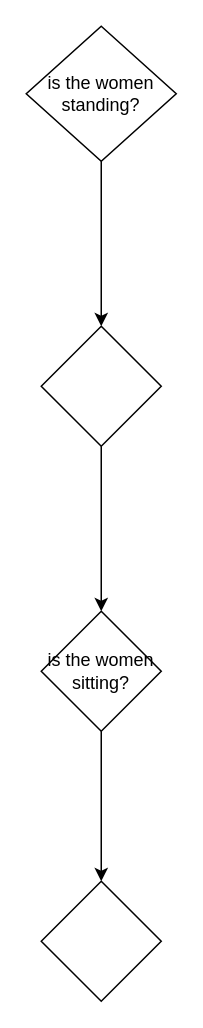
This 203x1028 diagram has some shape labels left out. Here are the shapes that lost their labels. From the top down, the centre of each, then its label:
At point (100, 385): "is the women on her knees".
At point (100, 940): "is the women laying".
